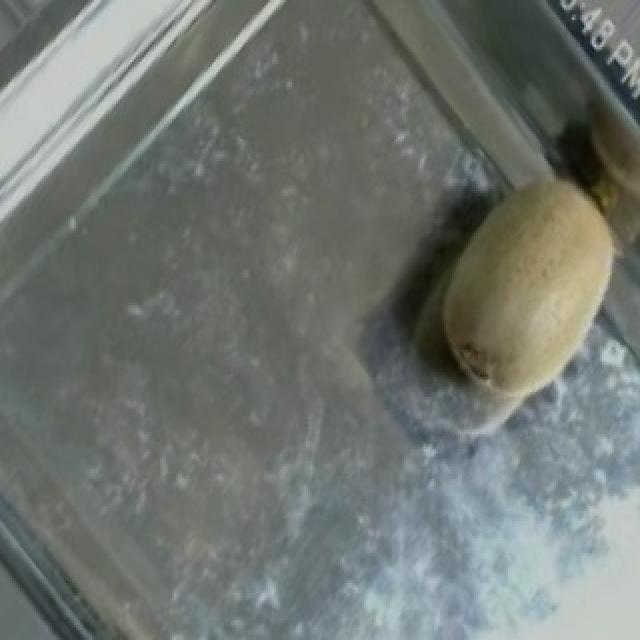Fruit: (404, 142, 640, 414)
